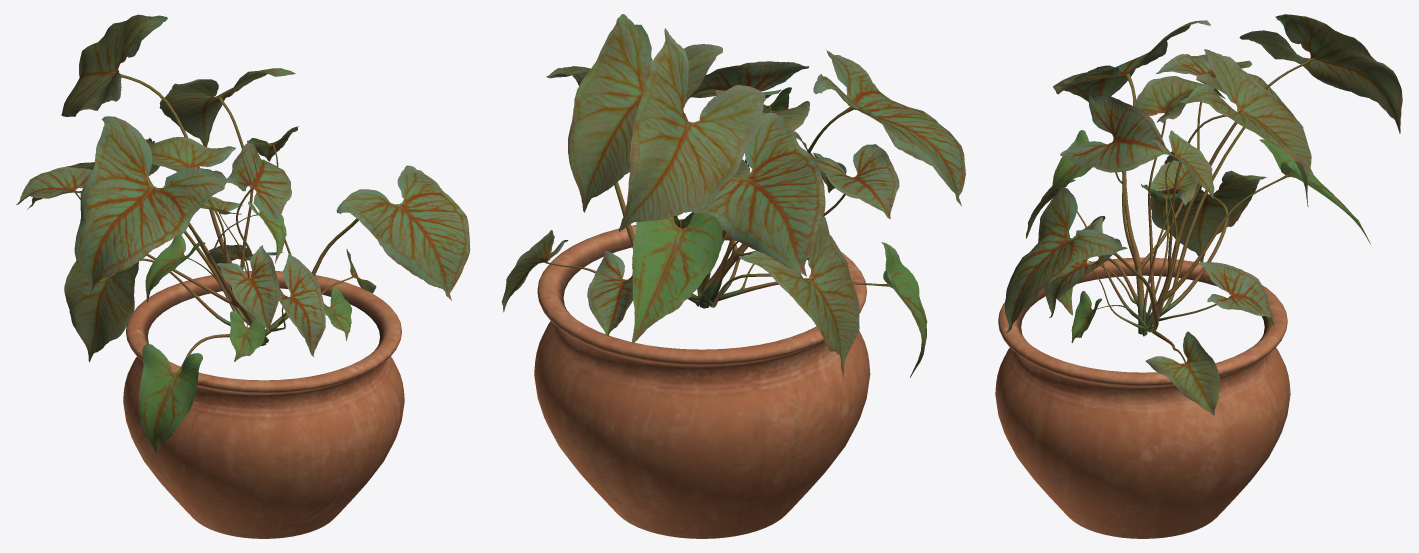
Rendered from potted-plant.glb.
The picture shows the model from 3 angles, left to right: view 1: azimuth 30°, elevation 25°; view 2: azimuth 150°, elevation 25°; view 3: azimuth 270°, elevation 25°; orthographic projection. The views are drawn at different scales.
Visible parts, largest first — view 1: leaves, pot; view 2: leaves, pot; view 3: leaves, pot.
Boxes of the visible parts, x1,y1,x2,y2 form: leaves: [16, 14, 470, 452]; pot: [123, 271, 404, 538]; leaves: [501, 14, 965, 377]; pot: [534, 219, 870, 538]; leaves: [1005, 14, 1402, 415]; pot: [995, 257, 1290, 538].
Bounding box in the file's own units: 0.7012 × 0.8412 × 0.6574.
Materials: 2 (2 with a texture image).
